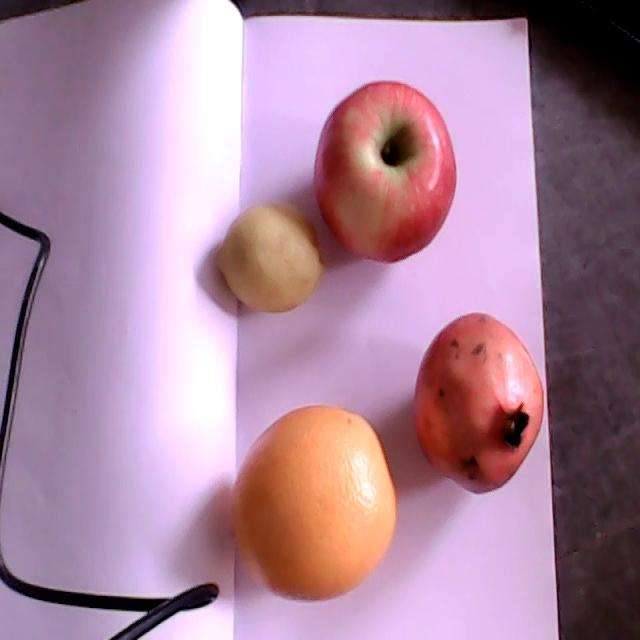apple: (313, 80, 458, 265)
lemon: (216, 198, 322, 314)
orange: (233, 405, 396, 603)
pomegranate: (413, 312, 545, 495)
